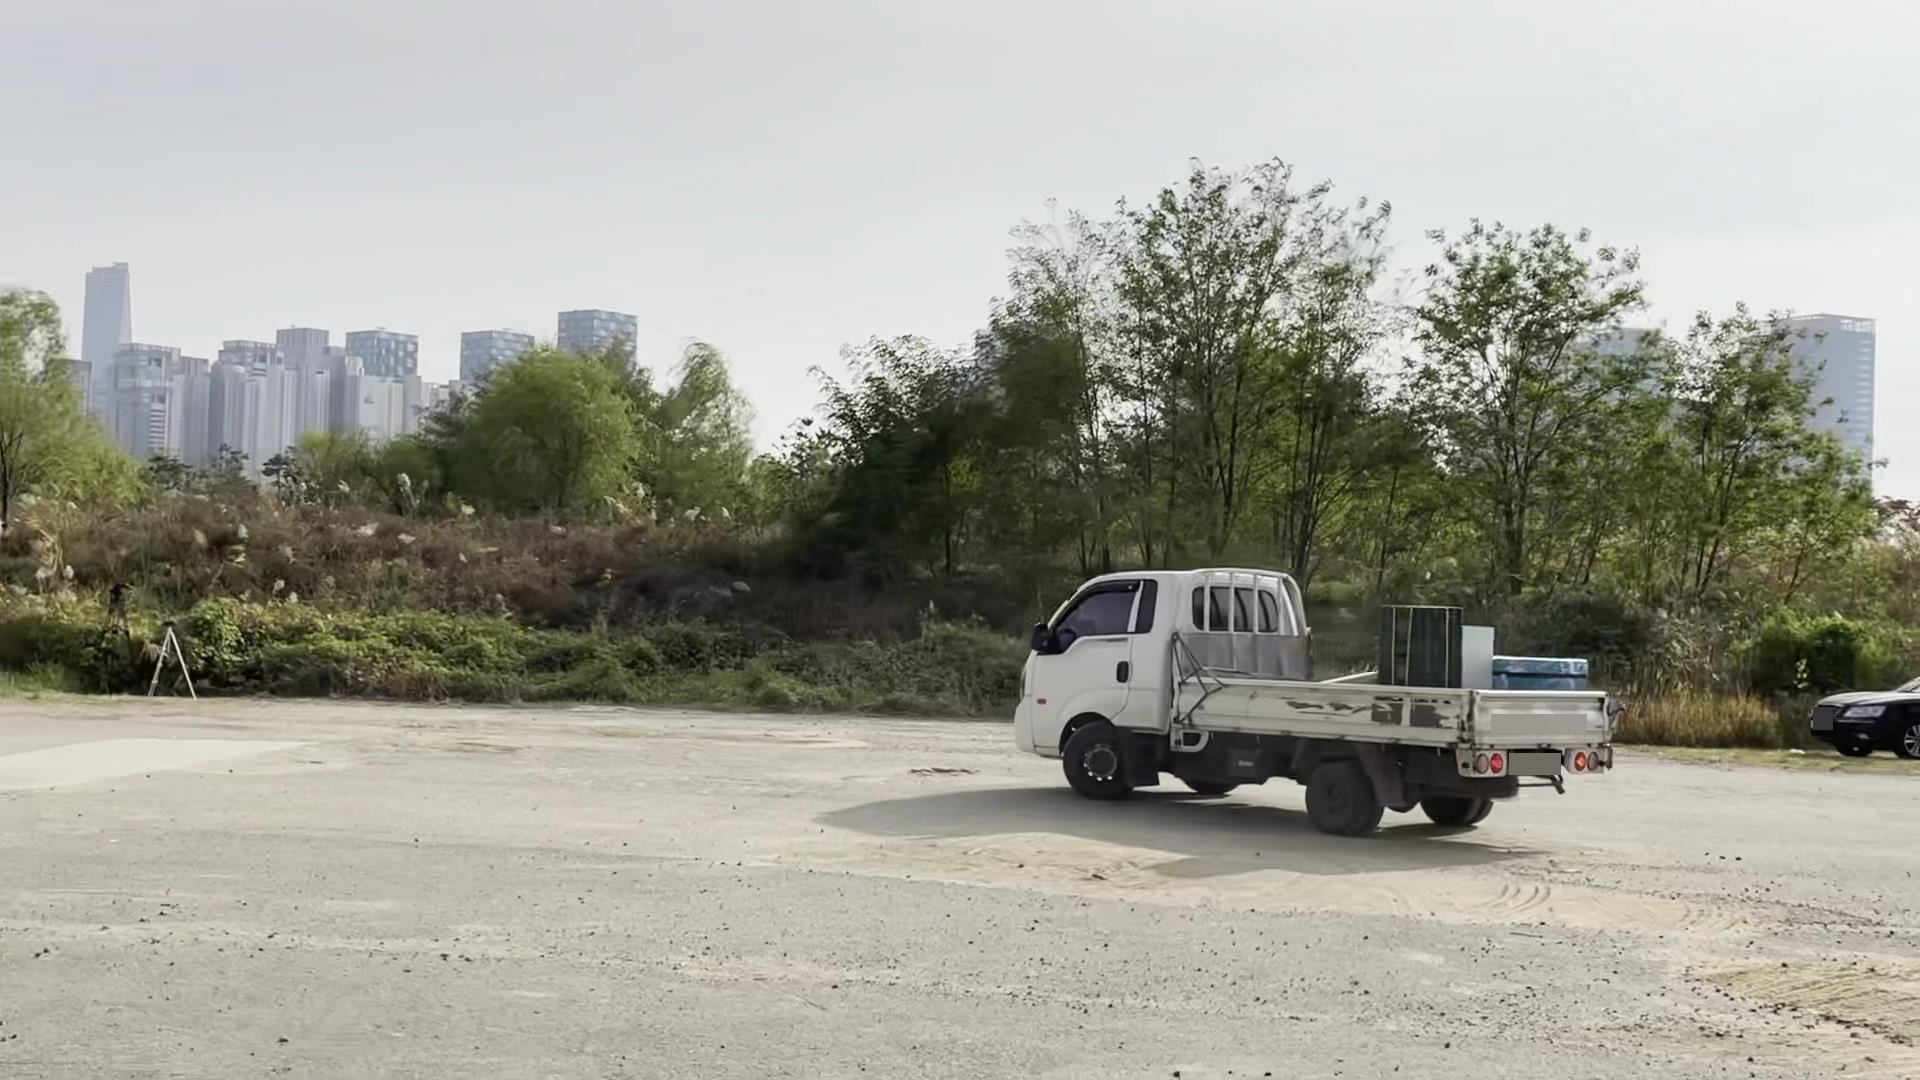불법차량: (1014, 568, 1626, 836)
